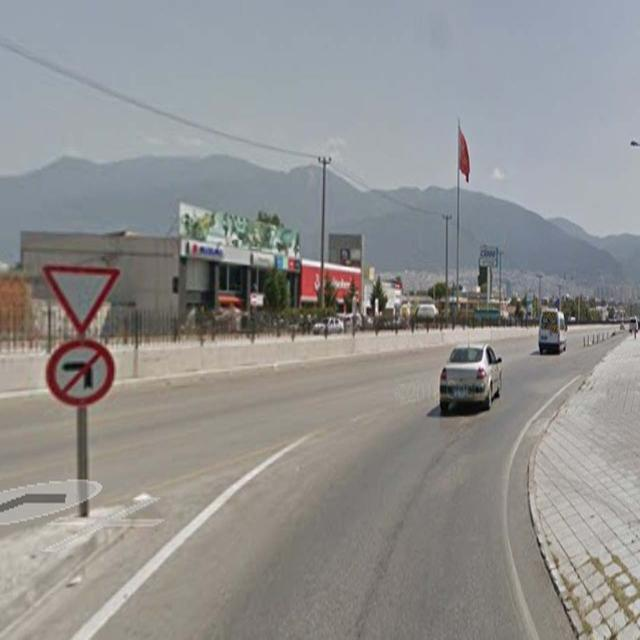soladonulmez: (47, 339, 115, 407)
